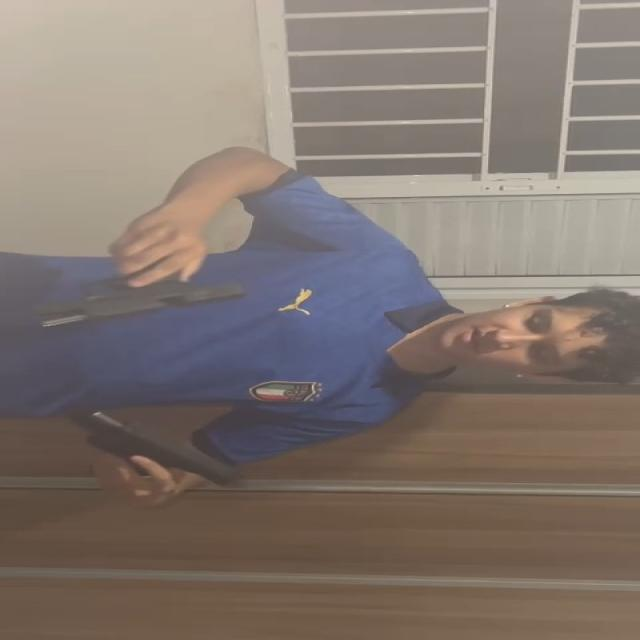gun: (74, 411, 238, 487), (37, 285, 235, 328)
